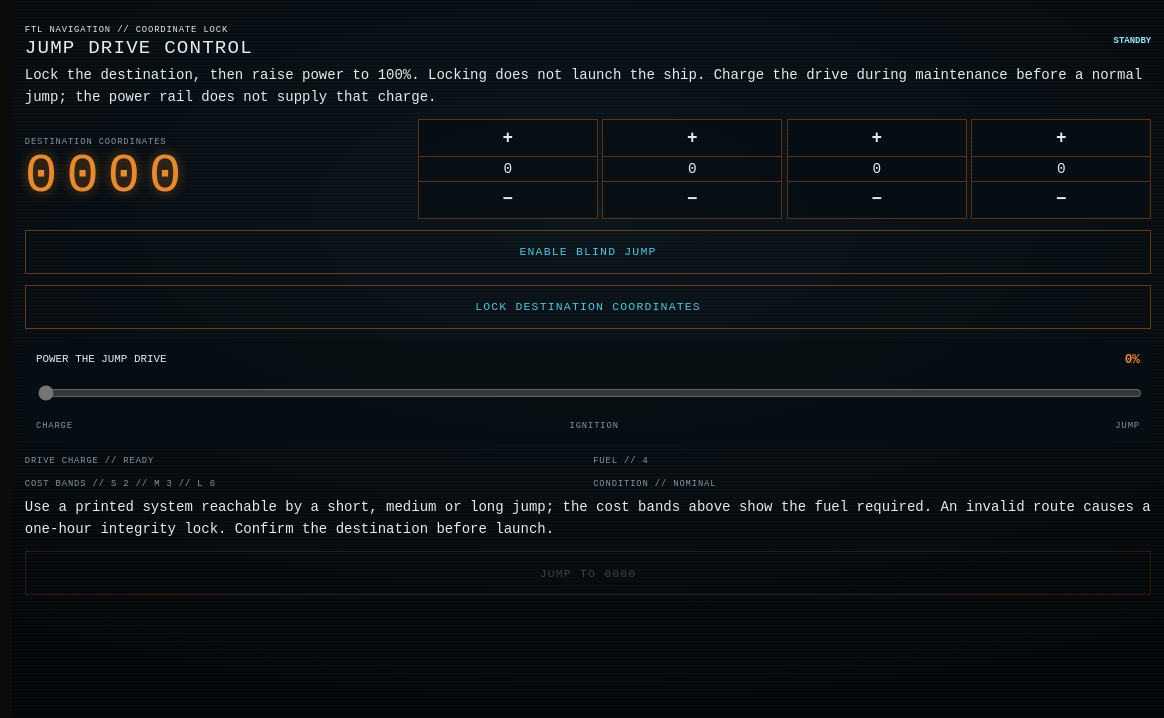
Scenario: keeps focus on another view when a pending jump ends
This screenshot has width=1164, height=718.
Click the button named "Increase coordinate digit 1": (508, 138) [419,120,597,156]
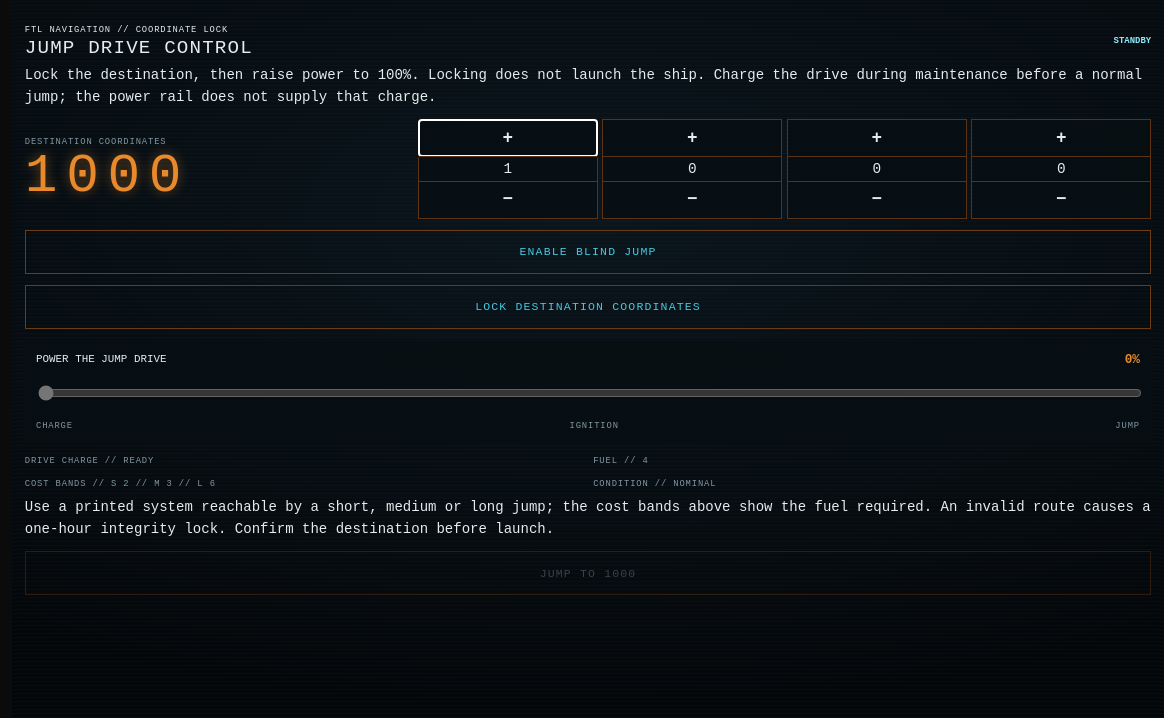
Click the button "Lock destination coordinates": (588, 307) [25,285,1151,329]
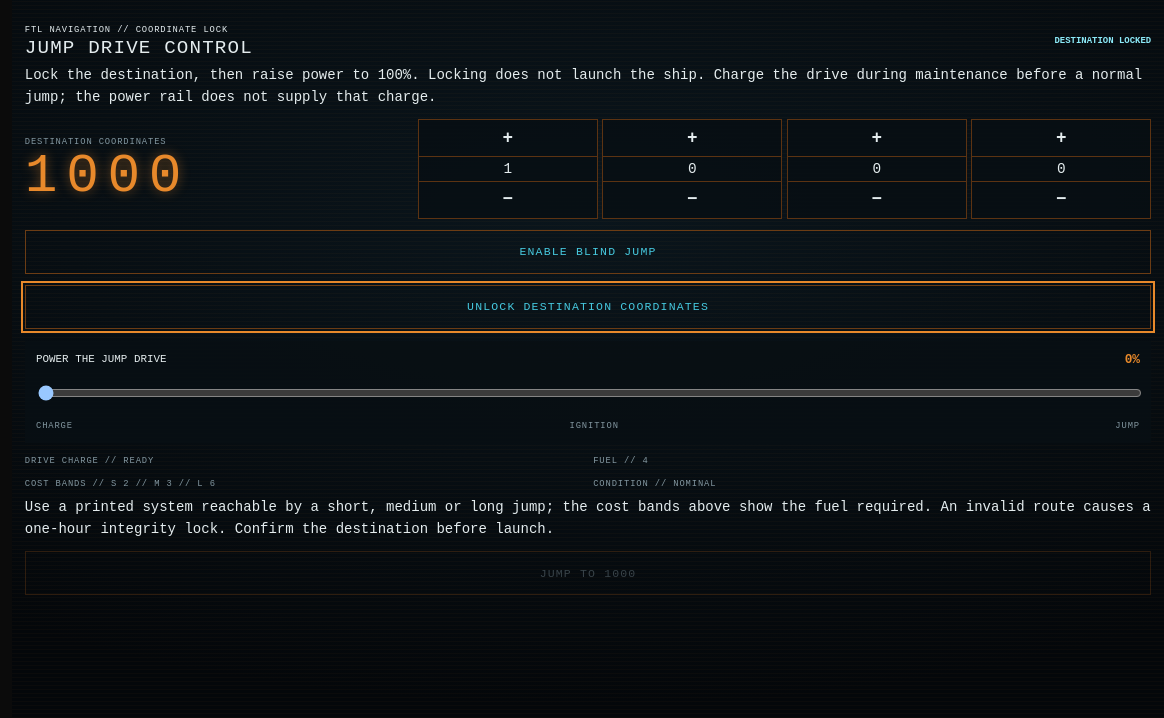
Set the slider named "Jump drive power" to "100": (1134, 393) [38,375,1142,411]
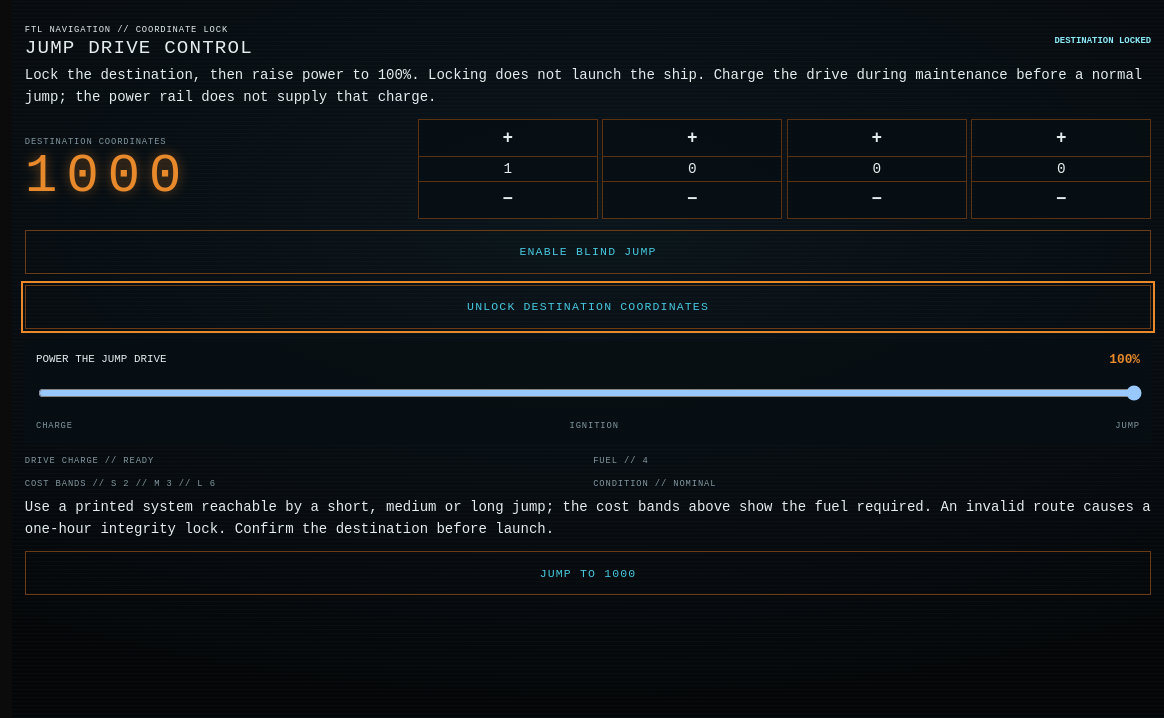
Click the button "Jump to 1000": (588, 574) [25,552,1151,596]
(page scrolled)
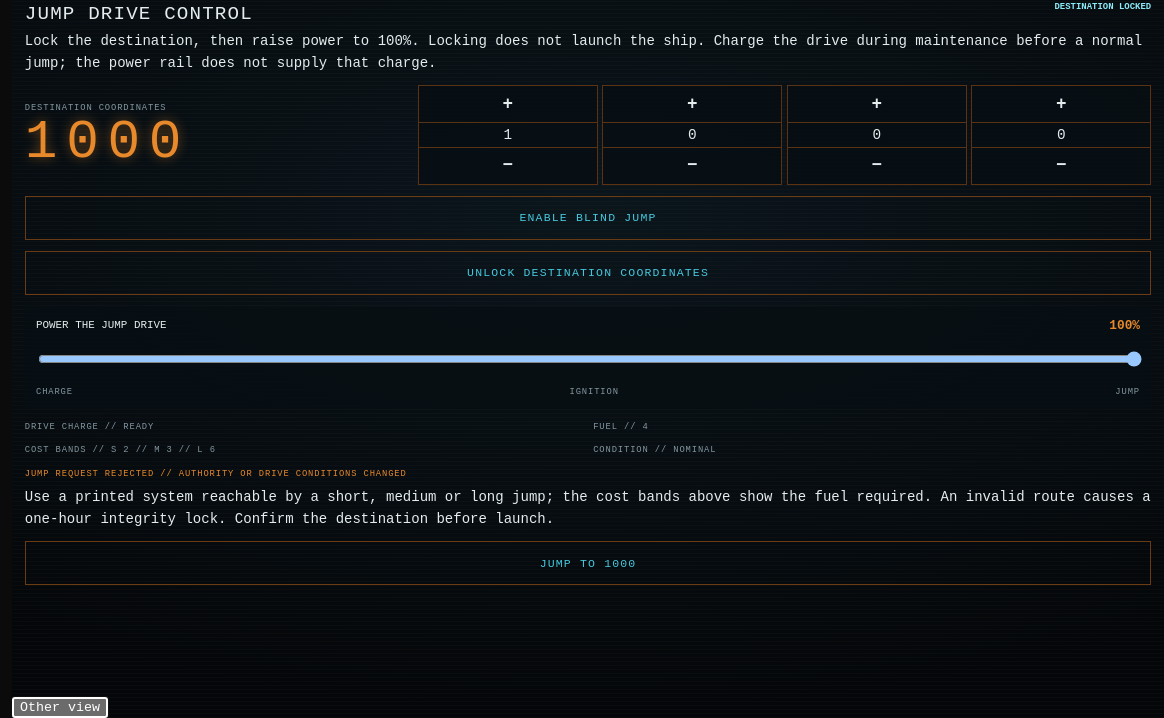
Check: the text "JUMP REQUEST REJECTED // AUTHORITY OR DRIVE CONDITIONS CHANGED" is shown, box [25,469,407,479]
